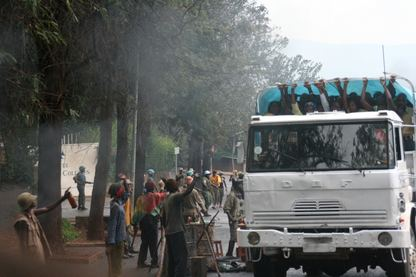truck: (220, 75, 416, 273)
